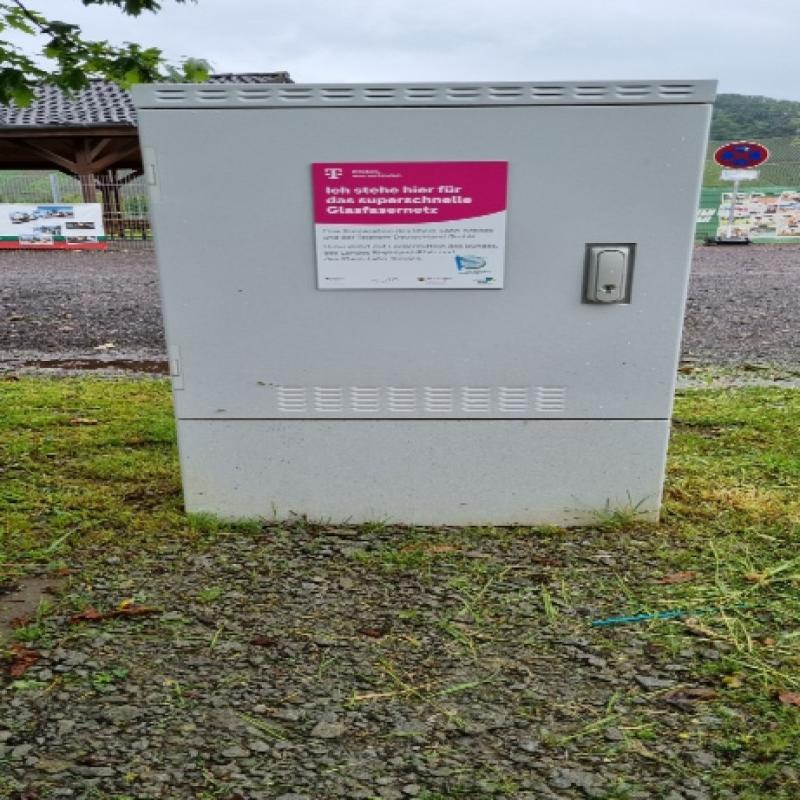NT-Gehause: (142, 82, 697, 518)
Steaker: (313, 163, 507, 289)
